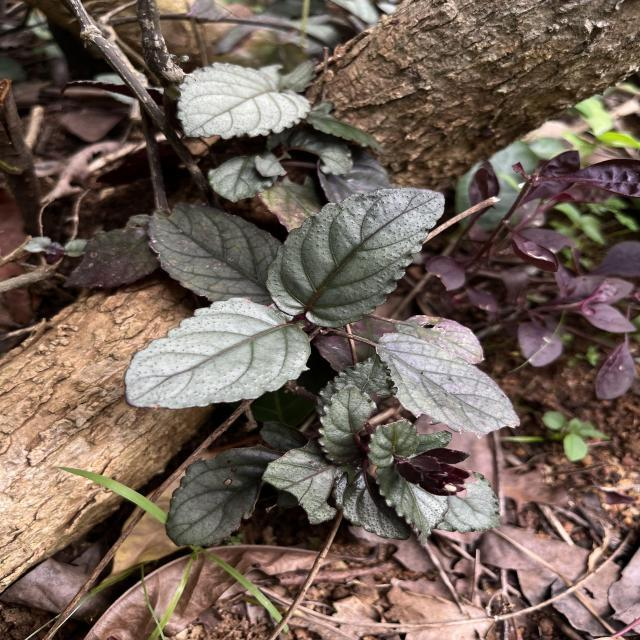Hemigraphis colorata: (262, 185, 448, 332), (120, 294, 315, 412), (372, 328, 525, 442), (172, 59, 314, 142)
